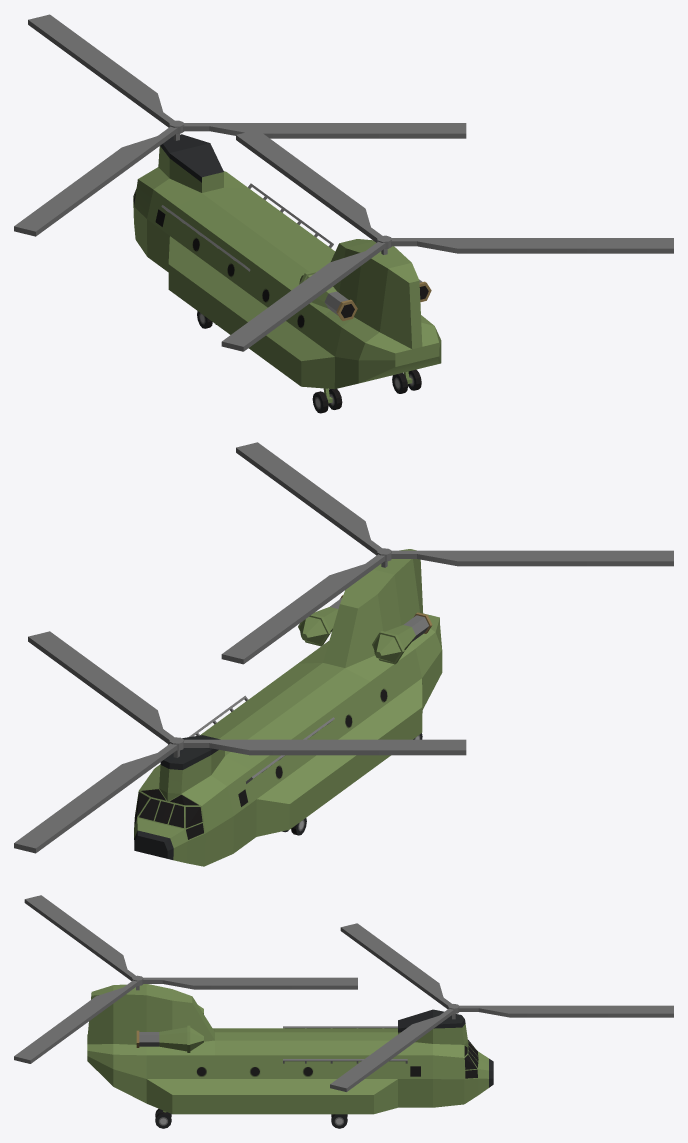
The model's file is transport_heli.fbx.
3 renders of one model, top to bottom at view 1: azimuth 30°, elevation 25°; view 2: azimuth 150°, elevation 25°; view 3: azimuth 270°, elevation 25°, orthographic. The views are drawn at different scales.
Visible parts, largest first — view 1: transport_heli, rotor_back, rotor_front; view 2: transport_heli, rotor_front, rotor_back; view 3: transport_heli, rotor_front, rotor_back.
Boxes of the visible parts, x1,y1,x2,y2 form: transport_heli: [133, 134, 441, 413]; rotor_back: [221, 129, 673, 351]; rotor_front: [14, 14, 466, 236]; transport_heli: [134, 549, 442, 866]; rotor_front: [14, 631, 466, 853]; rotor_back: [221, 442, 673, 664]; transport_heli: [87, 984, 493, 1128]; rotor_front: [330, 923, 673, 1091]; rotor_back: [14, 895, 357, 1063].
Size of the model in its own units: 2230 by 835 by 3766.
